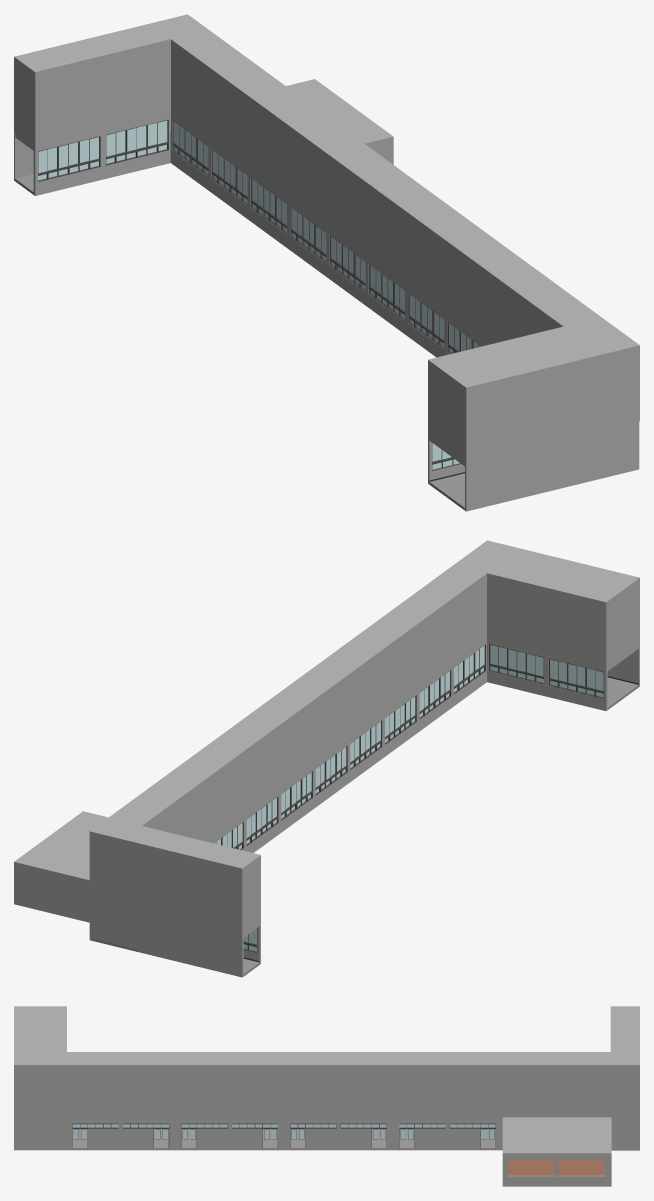
Rendered from hallway.glb.
3 renders of one model, top to bottom at view 1: azimuth 30°, elevation 25°; view 2: azimuth 150°, elevation 25°; view 3: azimuth 270°, elevation 25°, orthographic. The views are drawn at different scales.
Visible parts, largest first — view 1: オブジェクト_122, オブジェクト_121, オブジェクト_354, オブジェクト_117, オブジェクト_385, オブジェクト_329, オブジェクト_337; view 2: オブジェクト_121, オブジェクト_122, オブジェクト_117, オブジェクト_385, オブジェクト_354; view 3: オブジェクト_121, オブジェクト_354, オブジェクト_117, オブジェクト_119, オブジェクト_122, オブジェクト_196, オブジェクト_213, オブジェクト_230, オブジェクト_247.
Part boxes in pixels (<box>): オブジェクト_122: <box>34,39,563,483</box>; オブジェクト_121: <box>14,14,639,463</box>; オブジェクト_354: <box>465,421,639,511</box>; オブジェクト_117: <box>286,79,393,164</box>; オブジェクト_385: <box>15,174,464,510</box>; オブジェクト_329: <box>106,119,168,165</box>; オブジェクト_337: <box>38,136,100,181</box>; オブジェクト_121: <box>89,540,639,977</box>; オブジェクト_122: <box>141,573,606,963</box>; オブジェクト_117: <box>14,811,108,922</box>; オブジェクト_385: <box>92,677,638,976</box>; オブジェクト_354: <box>607,644,639,686</box>; オブジェクト_121: <box>14,1006,639,1150</box>; オブジェクト_354: <box>14,1117,502,1150</box>; オブジェクト_117: <box>502,1117,611,1186</box>; オブジェクト_119: <box>508,1160,605,1175</box>; オブジェクト_122: <box>66,1006,610,1052</box>; オブジェクト_196: <box>399,1124,495,1127</box>; オブジェクト_213: <box>290,1124,386,1127</box>; オブジェクト_230: <box>181,1124,277,1127</box>; オブジェクト_247: <box>72,1124,168,1127</box>.
Bounding box in the file's own units: 21.32 × 9.01 × 59.54.
